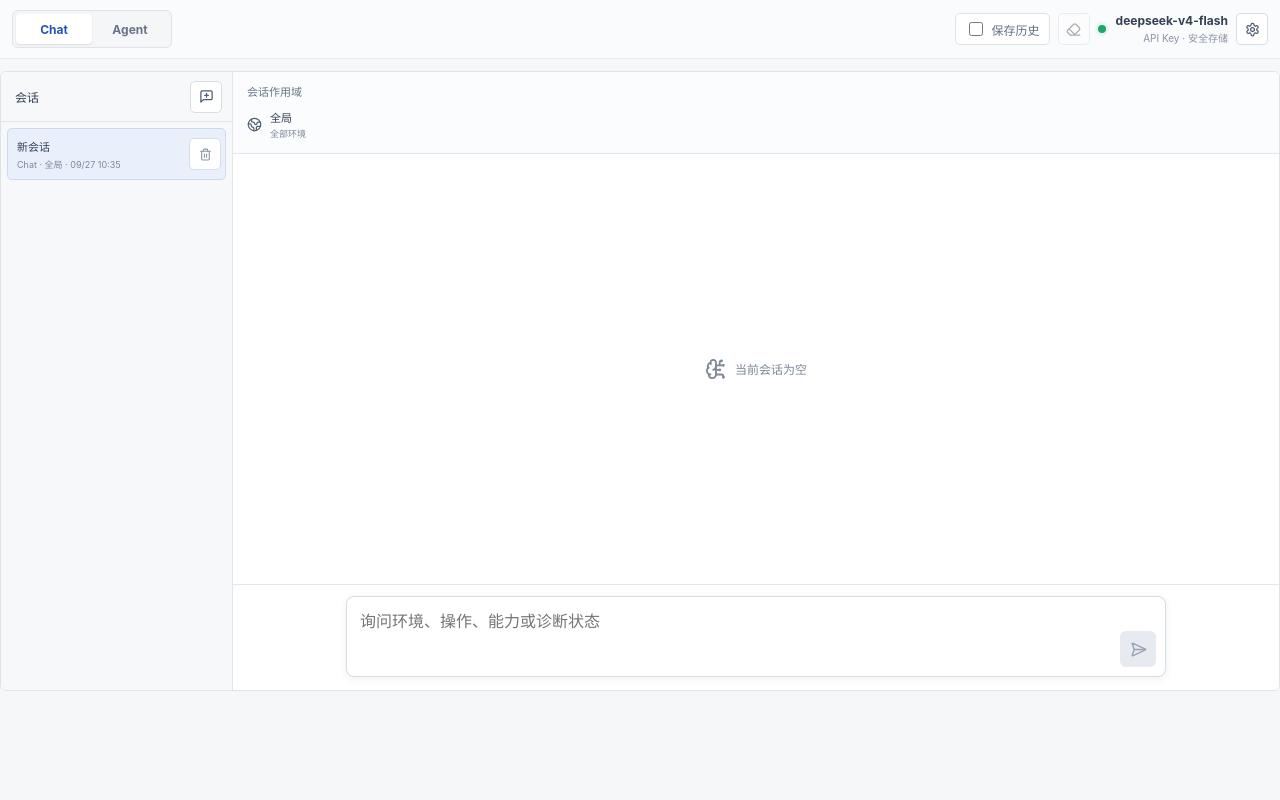
it: AiPage › creates, switches, clears, and deletes local conversations
This screenshot has width=1280, height=800.
Type "历史会话标题" into the text box named "AI 请求".
click(756, 634); type("历史会话标题")  # box [347,597,1165,672]
Click the button named "发送".
click(1138, 649)  # box [1120,631,1156,667]
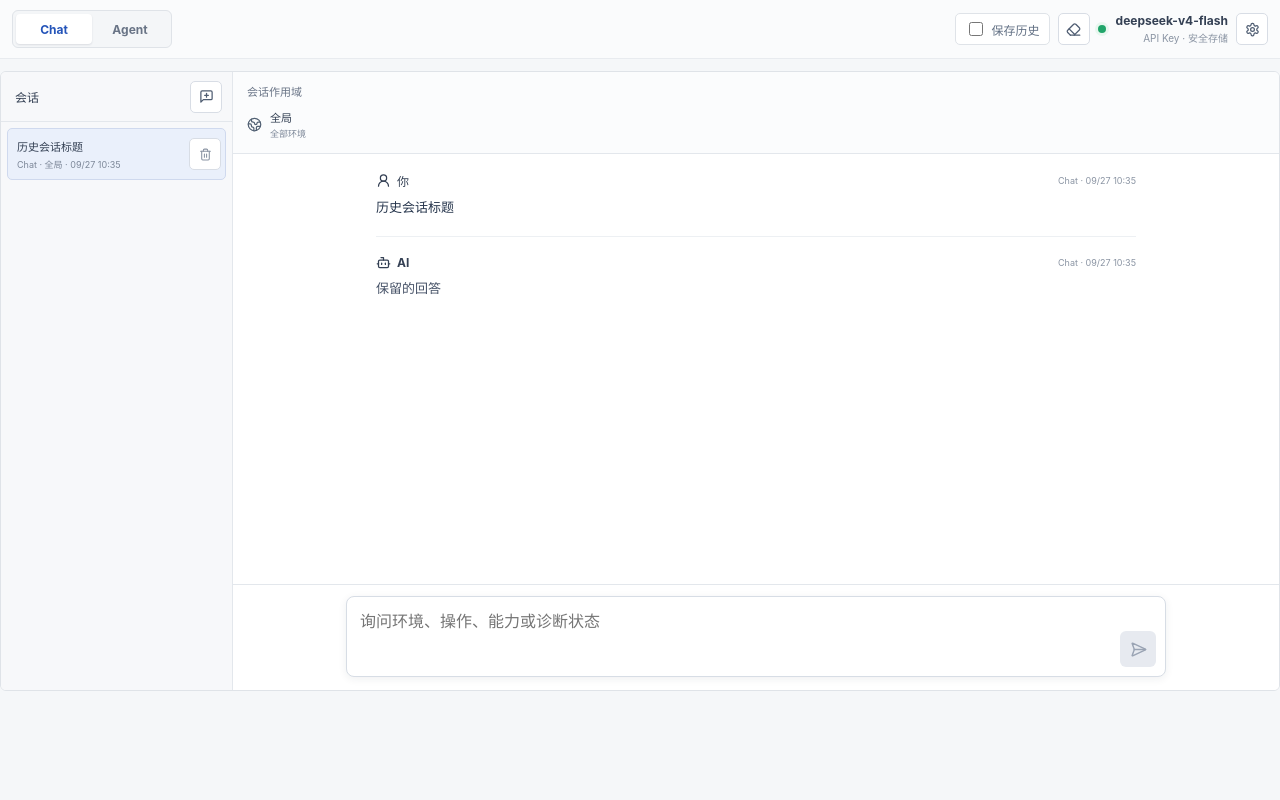
Check: the text "保留的回答" is shown, box [376,280,441,296]
Click the button named "新建会话".
click(206, 96)  # box [190,80,222,112]
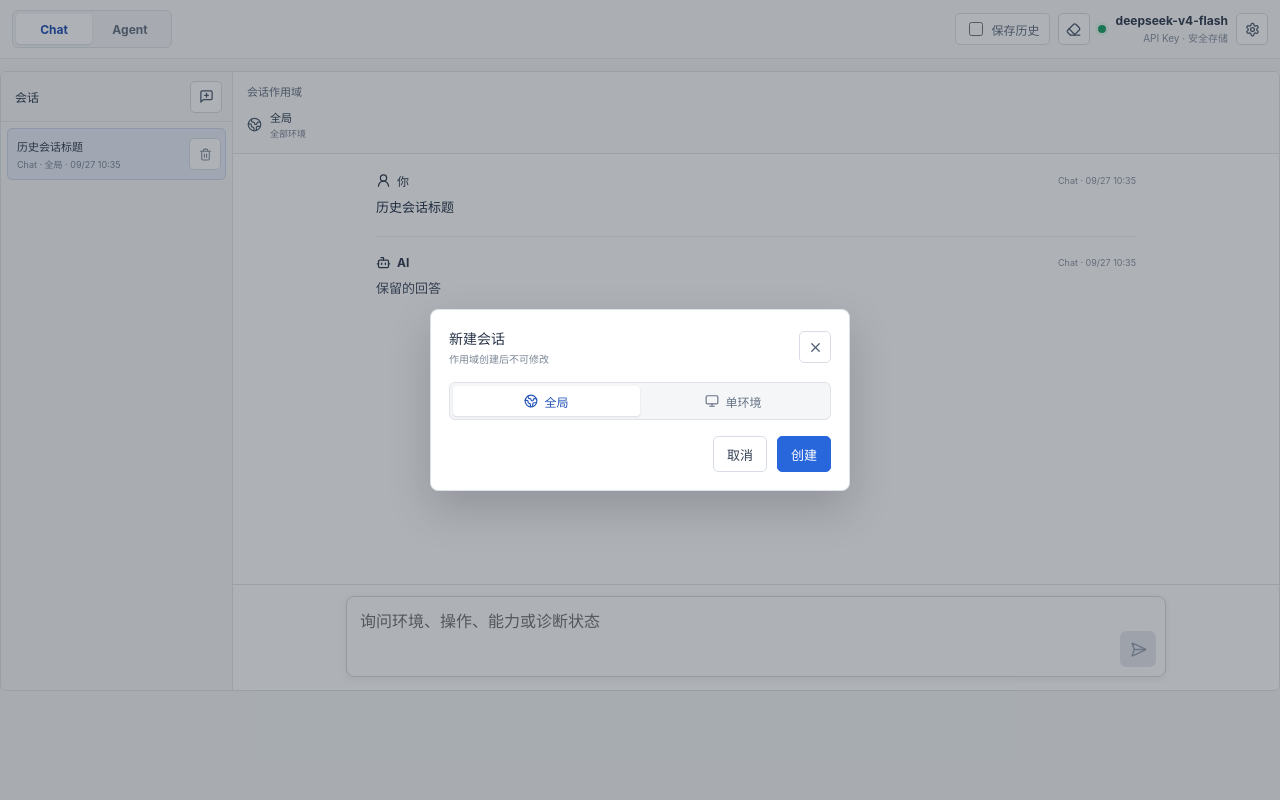
Click the button "创建".
click(804, 454)  # box [777,436,831,472]
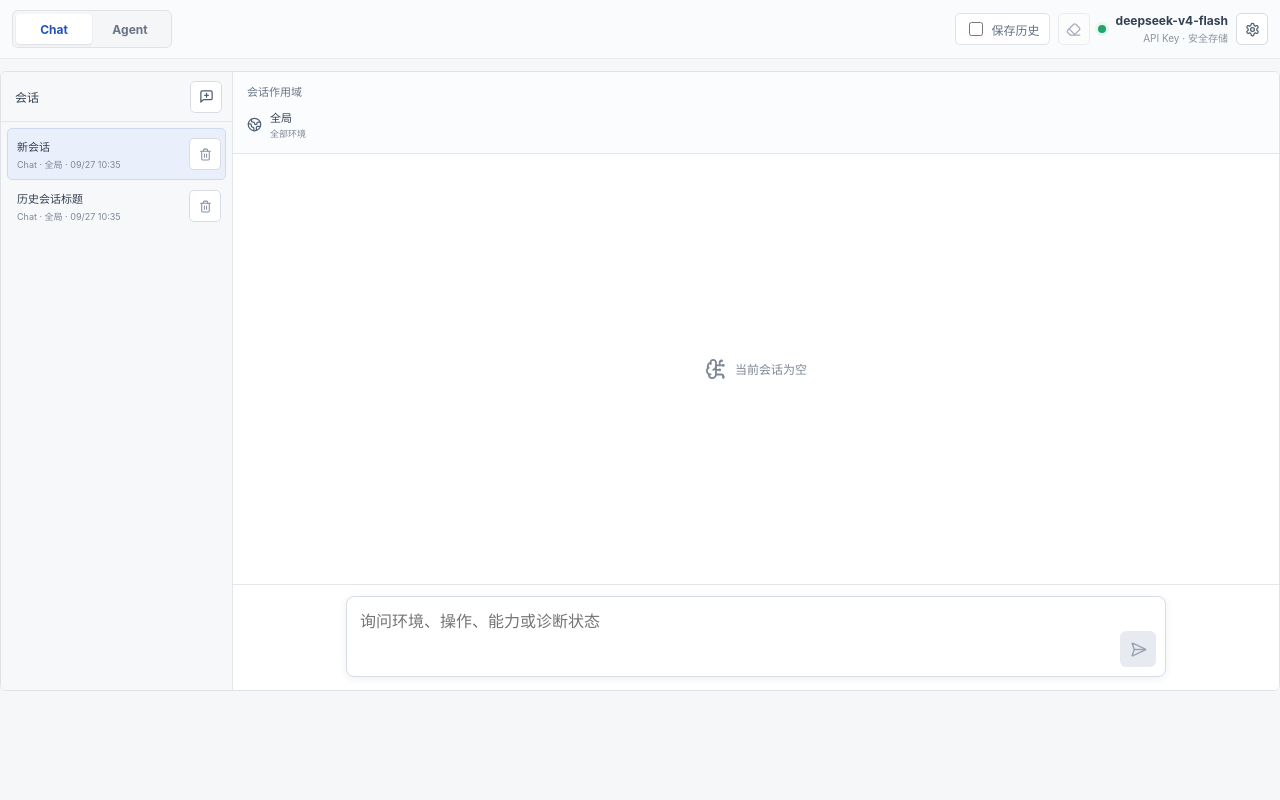
Check: the text "当前会话为空" is shown, box [735,360,807,377]
Check: the text "新会话" is shown, box [17,140,50,154]
Click the button "历史会话标题 Chat · 全局 · 09/27 10:35".
click(98, 206)  # box [8,182,189,230]
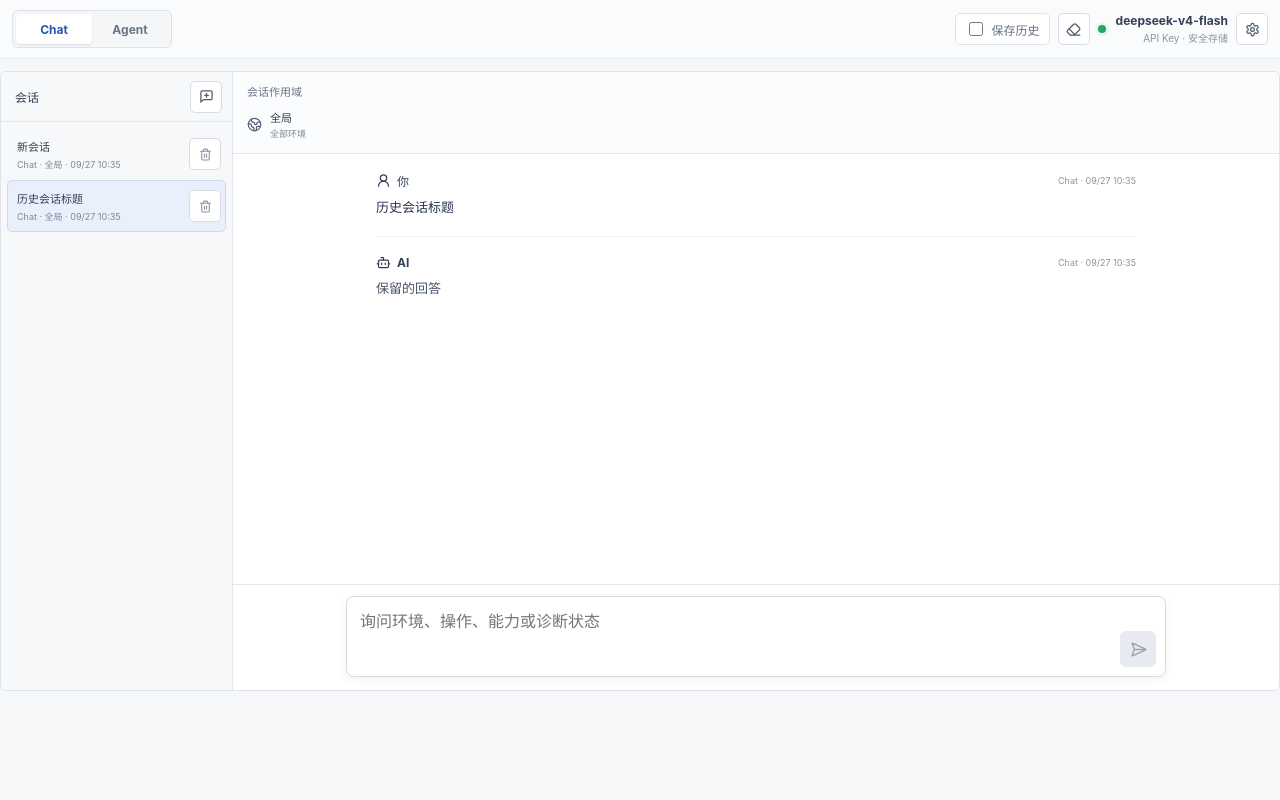
Check: the text "保留的回答" is shown, box [376,280,441,296]
Click the button named "清空当前会话".
click(1074, 29)  # box [1058,13,1090,45]
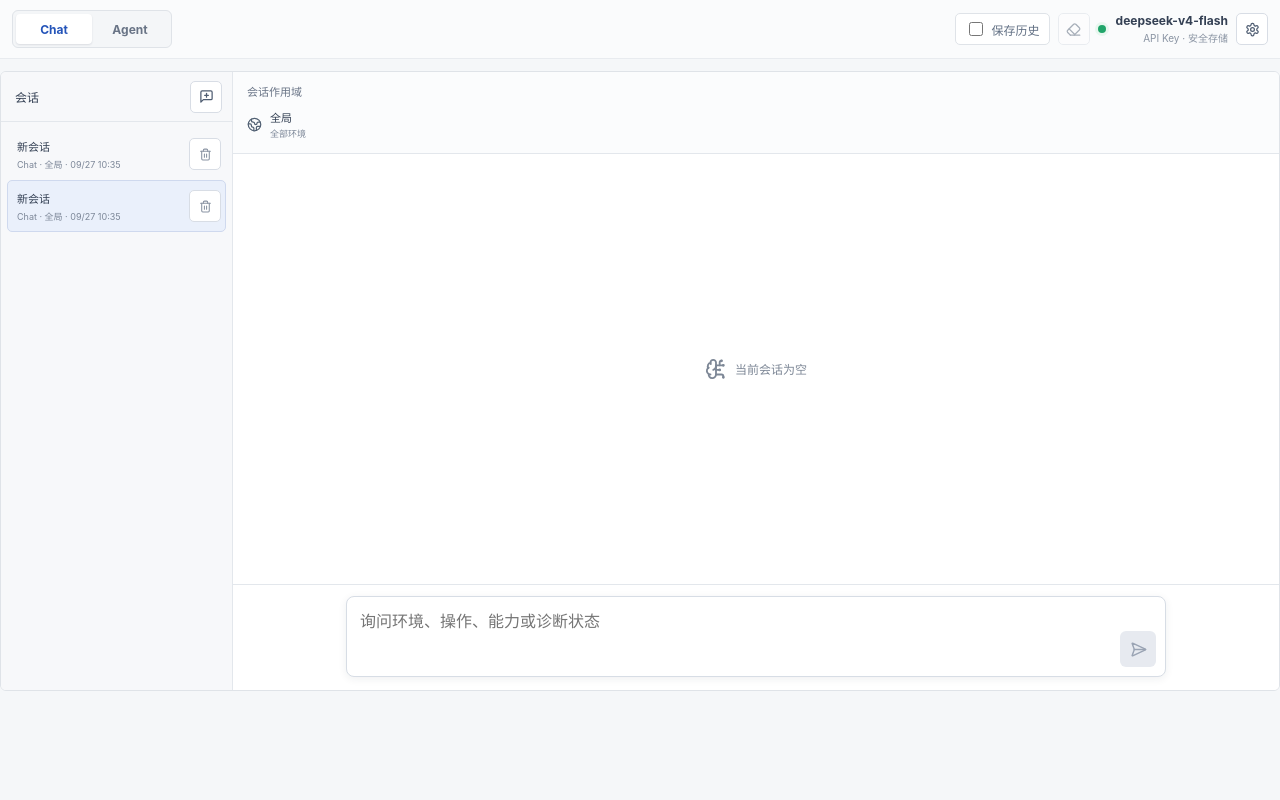
Check: the text "保留的回答" is gone
Check: the text "当前会话为空" is shown, box [735,360,807,377]
Click the 1st button named "删除会话".
click(205, 154)  # box [189,138,221,170]
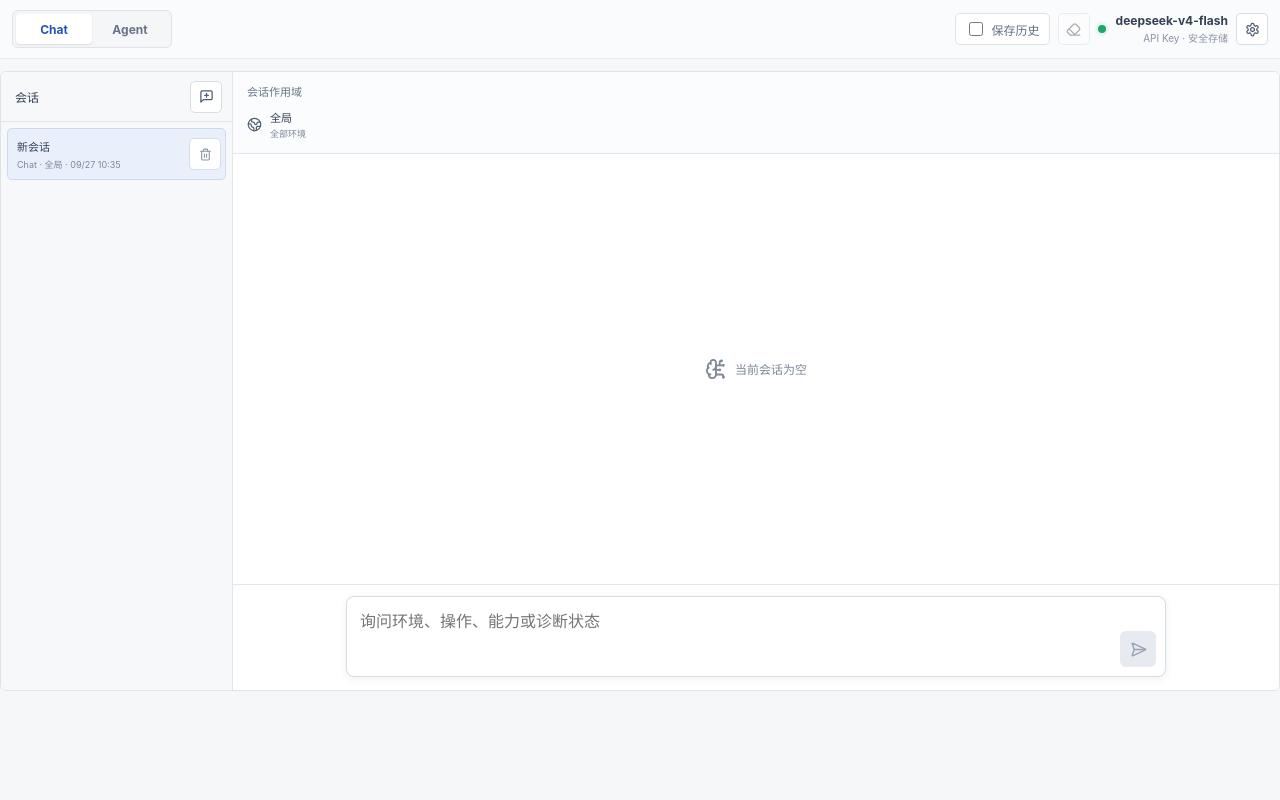
Check: the number of buttons named "删除会话" is 1, box [189,138,221,170]
